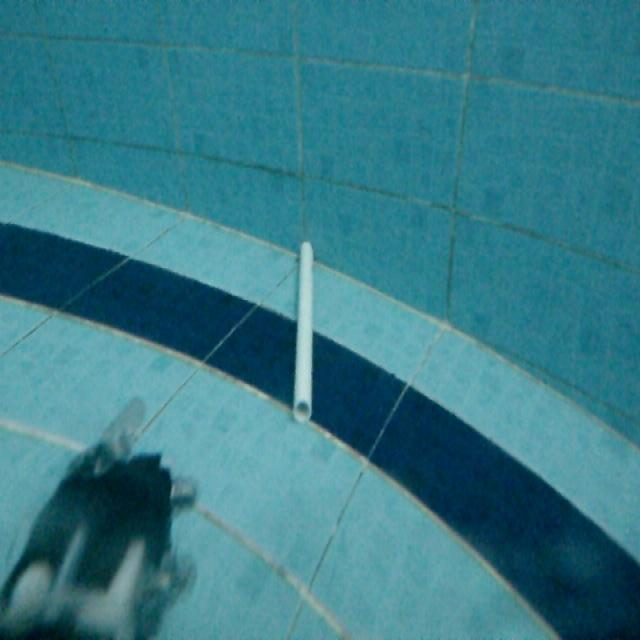Cube: (290, 236, 317, 424)
